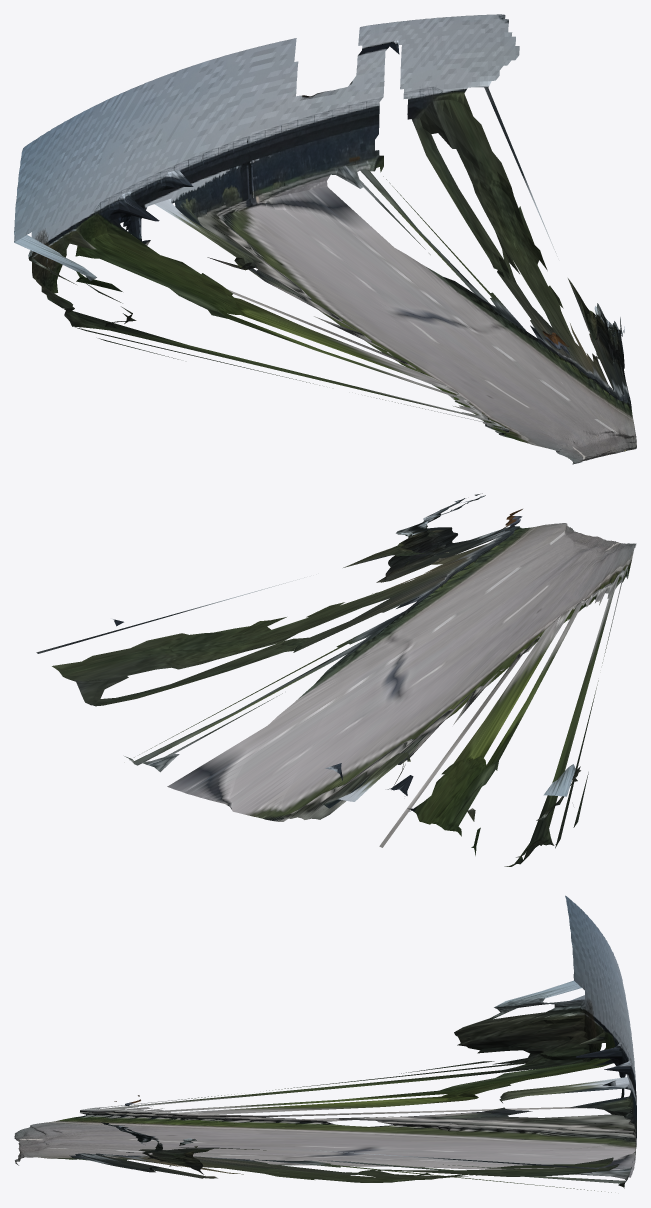
3 renders of one model, top to bottom at view 1: azimuth 30°, elevation 25°; view 2: azimuth 150°, elevation 25°; view 3: azimuth 270°, elevation 25°, orthographic. The views are drawn at different scales.
Parts seen in each view (by area): view 1: defaultobject; view 2: defaultobject; view 3: defaultobject.
Boxes of the visible parts, x1=… form: defaultobject: x1=14, y1=14, x2=636, y2=464; defaultobject: x1=36, y1=493, x2=636, y2=866; defaultobject: x1=14, y1=895, x2=636, y2=1192.
Bounding box in the file's own units: 37.89 × 12.97 × 44.54.
Materials: 1 (1 with a texture image).
